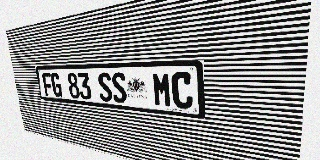3: (77, 73, 92, 100)
8: (67, 73, 80, 99)
C: (171, 72, 193, 110)
F: (42, 73, 53, 96)
G: (50, 73, 63, 97)
M: (152, 72, 172, 108)
S: (111, 72, 128, 103), (97, 72, 113, 102)
